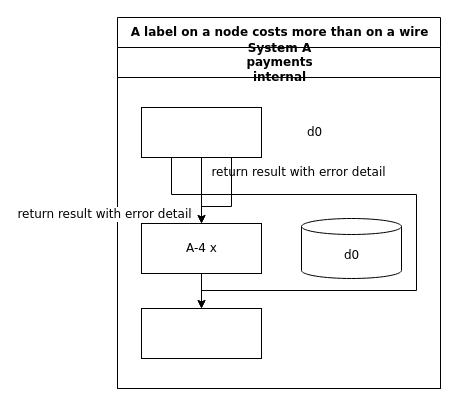
Image size: 458x406. Some labels were removed from this diagram. Each missing label, with the centre of its shape:
"A-3 x" belongs at (x=201, y=132).
"A-5 x" belongs at (x=201, y=333).
